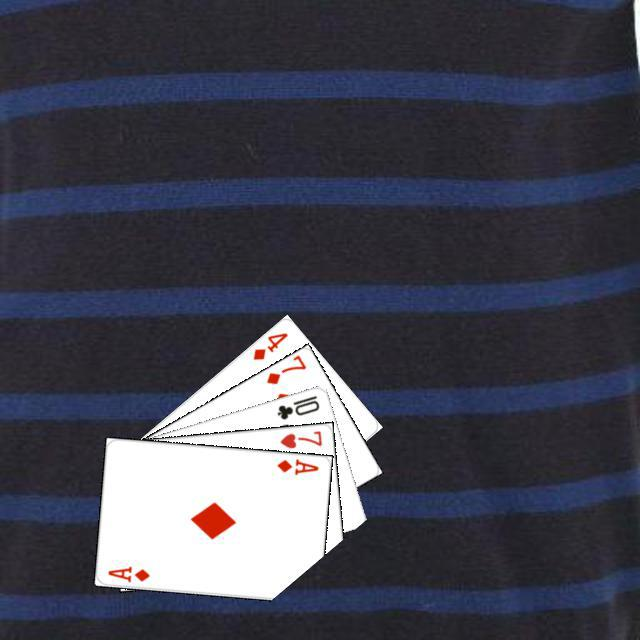10c: (272, 391, 321, 421)
4d: (248, 328, 289, 362)
7d: (261, 351, 308, 386)
7h: (275, 426, 323, 450)
Ad: (272, 454, 320, 477), (103, 562, 151, 584)
